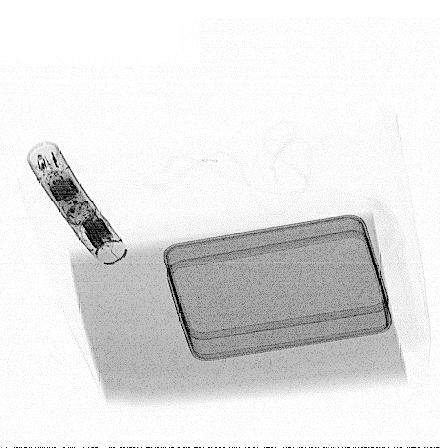Baton: (26, 139, 128, 265)
